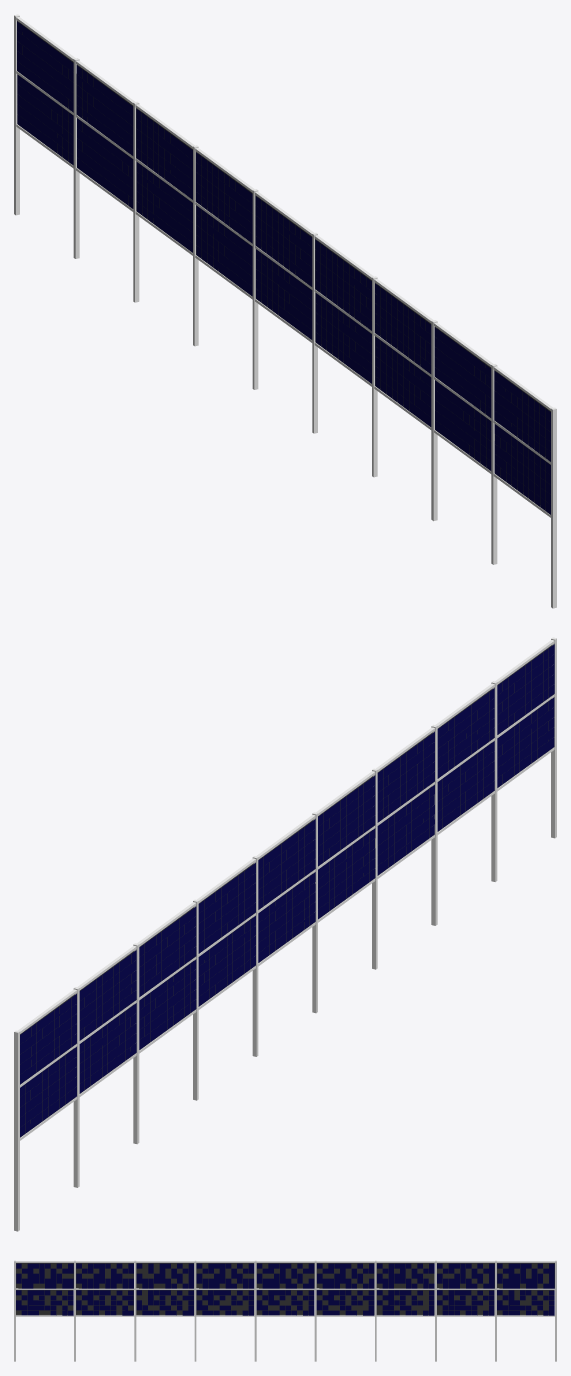
Rendered from w-sun-panel4.glb.
3 renders of one model, top to bottom at view 1: azimuth 30°, elevation 25°; view 2: azimuth 150°, elevation 25°; view 3: azimuth 270°, elevation 25°, orthographic. The views are drawn at different scales.
Parts seen in each view (by area): view 1: 立方体.009, 立方体.001, 立方体.008, 立方体.007, 立方体.002, 立方体.006, 立方体.005, 立方体.004, 立方体.003; view 2: 立方体.004, 立方体.008, 立方体.003, 立方体.006, 立方体.007, 立方体.001, 立方体.005, 立方体.009, 立方体.002; view 3: 立方体.009, 立方体.005, 立方体.006, 立方体.001, 立方体.003, 立方体.004, 立方体.002, 立方体.008, 立方体.007.
Part boxes in pixels (x1,y1,x2,y2): 立方体.009: (491,364,556,608); 立方体.001: (252,189,317,433); 立方体.008: (14,14,79,258); 立方体.007: (73,58,139,302); 立方体.002: (193,145,254,389); 立方体.006: (431,320,495,564); 立方体.005: (372,277,435,520); 立方体.004: (133,101,194,345); 立方体.003: (312,232,376,476); 立方体.004: (133,901,198,1144); 立方体.008: (14,988,79,1231); 立方体.003: (312,770,377,1012); 立方体.006: (432,681,497,924); 立方体.007: (73,944,139,1187); 立方体.001: (253,814,317,1056); 立方体.005: (372,725,437,925); 立方体.009: (492,637,556,881); 立方体.002: (193,857,258,1056); 立方体.009: (14,1260,75,1361); 立方体.005: (134,1260,196,1361); 立方体.006: (74,1260,136,1361); 立方体.001: (254,1260,316,1361); 立方体.003: (194,1260,256,1361); 立方体.004: (375,1260,436,1361); 立方体.002: (316,1260,376,1361); 立方体.008: (495,1260,556,1361); 立方体.007: (435,1260,496,1361).
Size of the model in its own units: 0.2 by 9.38 by 46.08.
